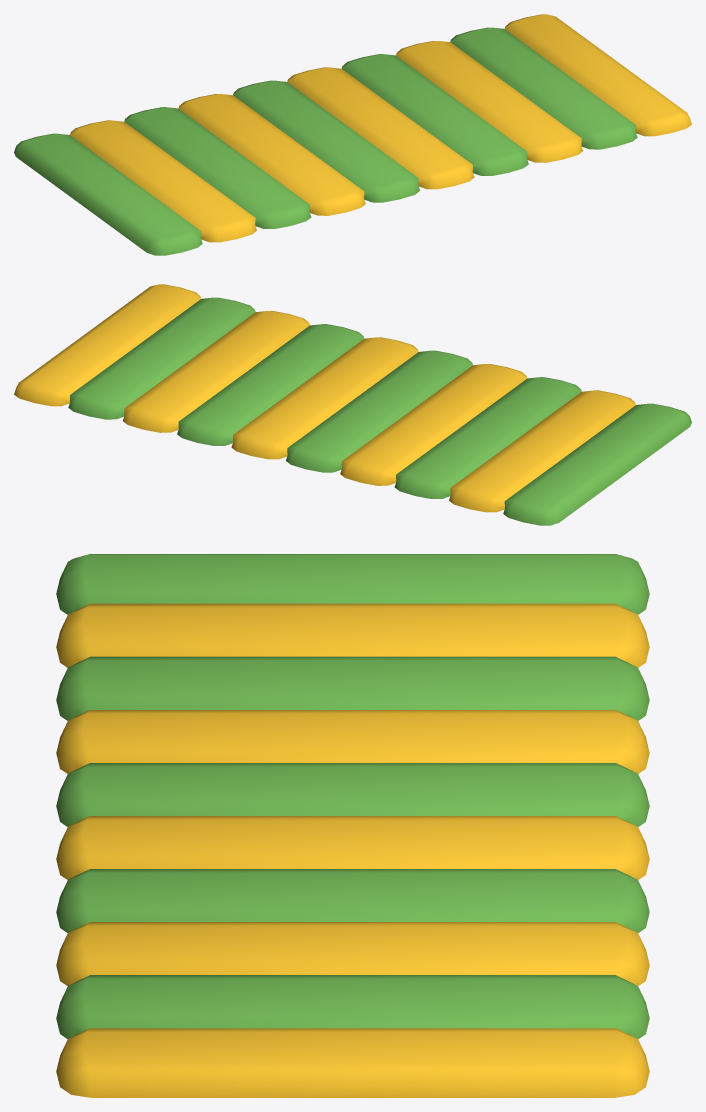
The model's file is Bath_Prop_05.glb.
The picture shows the model from 3 angles, top to bottom: view 1: azimuth 30°, elevation 25°; view 2: azimuth 150°, elevation 25°; view 3: azimuth 270°, elevation 25°; orthographic projection. The views are drawn at different scales.
Parts seen in each view (by area): view 1: Bath_Prop_05; view 2: Bath_Prop_05; view 3: Bath_Prop_05.
Part boxes in pixels (bbox=[...]): Bath_Prop_05: bbox=[14, 14, 691, 255]; Bath_Prop_05: bbox=[14, 284, 691, 525]; Bath_Prop_05: bbox=[56, 554, 649, 1097].
Bounding box in the file's own units: 1.2 × 0.025 × 0.5674.
1 material, 1 textured.
